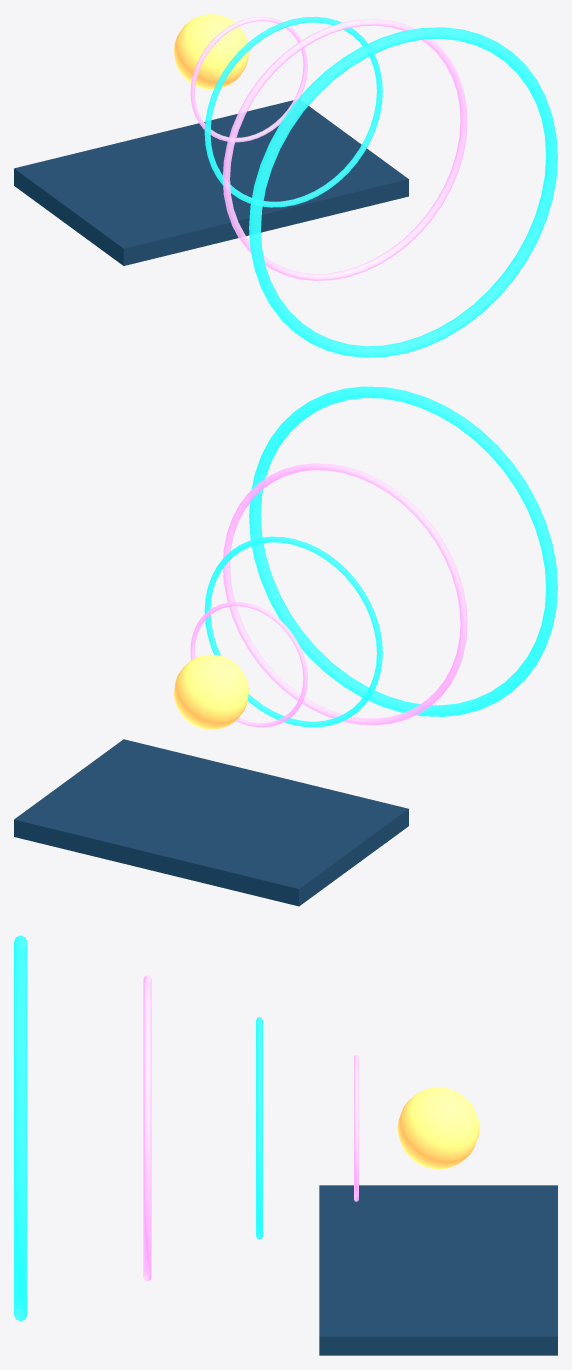
Rendered from focus-memory-chamber-v1.candidate.glb.
3 renders of one model, top to bottom at view 1: azimuth 30°, elevation 25°; view 2: azimuth 150°, elevation 25°; view 3: azimuth 270°, elevation 25°, orthographic. The views are drawn at different scales.
Parts seen in each view (by area): view 1: focus-memory-plinth, focus-entry-ring, focus-depth-ring-1, selected-memory-core, focus-depth-ring-2, focus-depth-ring-3; view 2: focus-memory-plinth, focus-entry-ring, focus-depth-ring-1, selected-memory-core, focus-depth-ring-2, focus-depth-ring-3; view 3: focus-memory-plinth, focus-entry-ring, selected-memory-core, focus-depth-ring-1, focus-depth-ring-2, focus-depth-ring-3.
Boxes of the visible parts, x1=… form: focus-memory-plinth: x1=14, y1=100, x2=408, y2=265; focus-entry-ring: x1=249, y1=27, x2=557, y2=357; focus-depth-ring-1: x1=222, y1=18, x2=467, y2=280; selected-memory-core: x1=174, y1=14, x2=248, y2=89; focus-depth-ring-2: x1=204, y1=16, x2=382, y2=207; focus-depth-ring-3: x1=190, y1=16, x2=307, y2=142; focus-memory-plinth: x1=14, y1=739, x2=408, y2=906; focus-entry-ring: x1=249, y1=386, x2=557, y2=716; focus-depth-ring-1: x1=223, y1=463, x2=467, y2=725; selected-memory-core: x1=174, y1=654, x2=248, y2=729; focus-depth-ring-2: x1=204, y1=536, x2=382, y2=727; focus-depth-ring-3: x1=190, y1=602, x2=307, y2=727; focus-memory-plinth: x1=319, y1=1185, x2=557, y2=1355; focus-entry-ring: x1=14, y1=935, x2=27, y2=1321; selected-memory-core: x1=397, y1=1087, x2=479, y2=1169; focus-depth-ring-1: x1=143, y1=975, x2=151, y2=1281; focus-depth-ring-2: x1=256, y1=1017, x2=262, y2=1239; focus-depth-ring-3: x1=354, y1=1055, x2=358, y2=1201.
Bounding box in the file's own units: 5.18 × 5.18 × 7.29.
